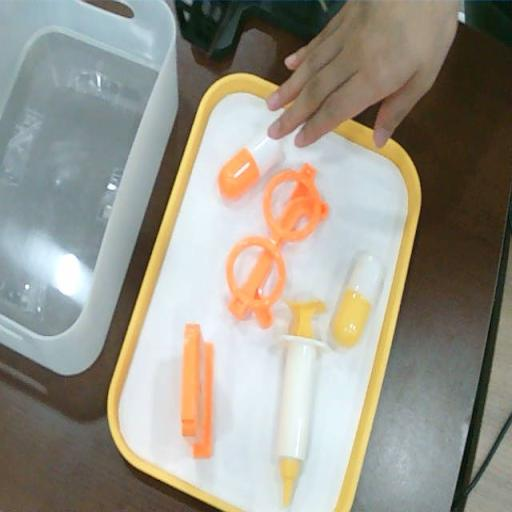hospital: (267, 1, 464, 150)
